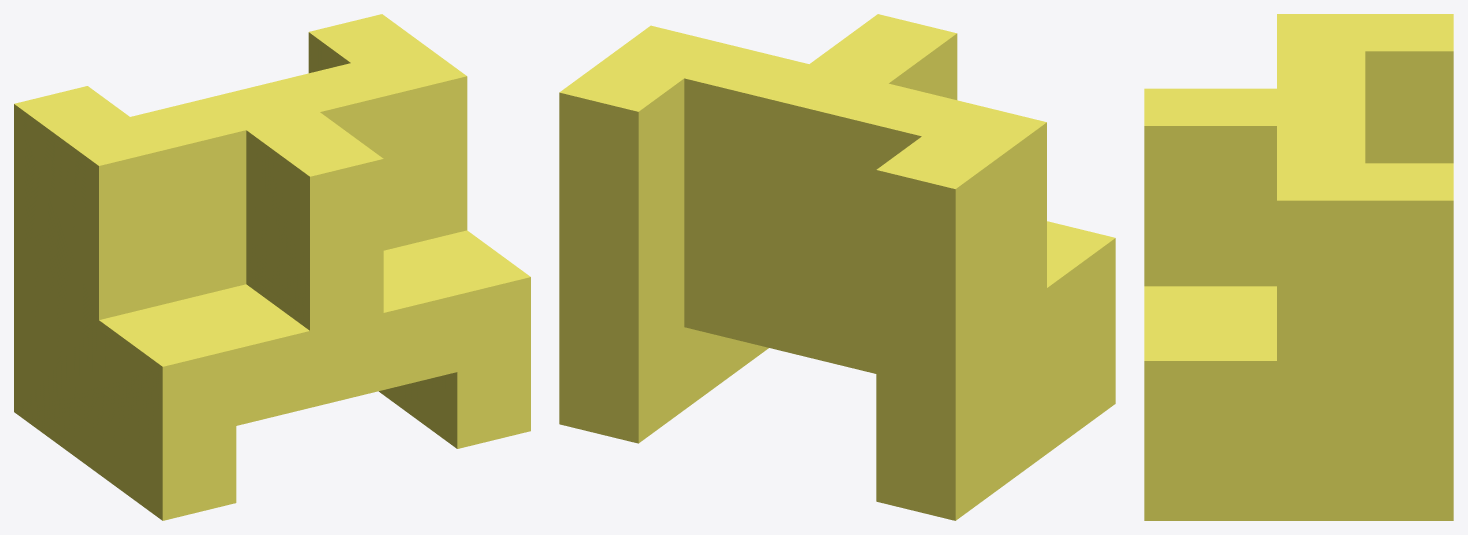
3 views of the same model, side by side, from view 1: azimuth 30°, elevation 25°; view 2: azimuth 150°, elevation 25°; view 3: azimuth 270°, elevation 25° (orthographic). The views are drawn at different scales.
Parts seen in each view (by area): view 1: 630; view 2: 630; view 3: 630.
Part boxes in pixels (x1=…): 630: x1=14, y1=14, x2=530, y2=520; 630: x1=559, y1=14, x2=1115, y2=520; 630: x1=1144, y1=14, x2=1453, y2=520.
Size of the model in its own units: 0.05 by 0.04 by 0.035.
